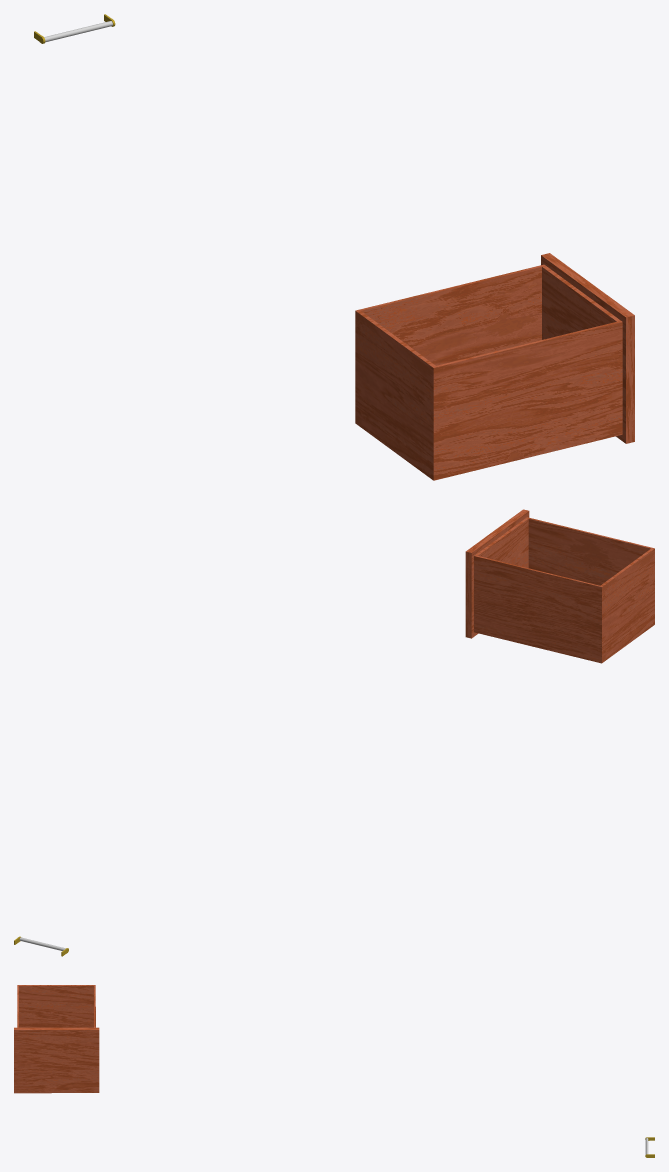
Rendered from Drawer_0d78fd47.obj.
The picture shows the model from 3 angles, top to bottom: view 1: azimuth 30°, elevation 25°; view 2: azimuth 150°, elevation 25°; view 3: azimuth 270°, elevation 25°; orthographic projection. The views are drawn at different scales.
Visible parts, largest first — view 1: DrawerMesh_01_f8a2e6e1; view 2: DrawerMesh_01_f8a2e6e1; view 3: DrawerMesh_01_f8a2e6e1.
Part boxes in pixels (left/top/right/bottom): DrawerMesh_01_f8a2e6e1: left=355, top=253, right=634, bottom=480; DrawerMesh_01_f8a2e6e1: left=465, top=509, right=654, bottom=663; DrawerMesh_01_f8a2e6e1: left=14, top=985, right=99, bottom=1093.
Size of the model in its own units: 0.7672 by 0.4772 by 2.75.
